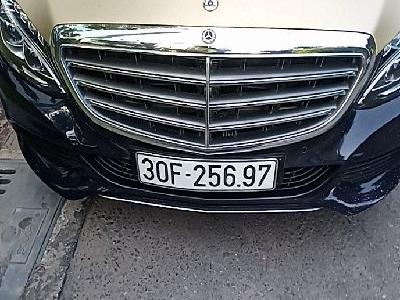lisence: (133, 148, 280, 194)
